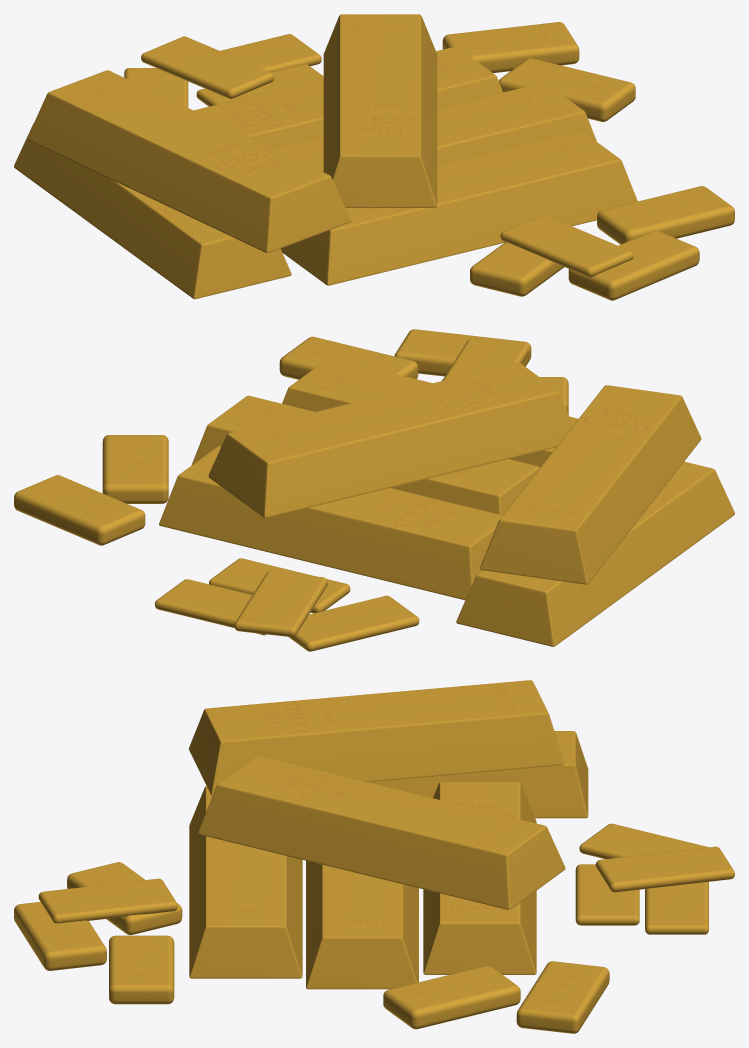
The model's file is gold_bars.glb.
3 renders of one model, top to bottom at view 1: azimuth 30°, elevation 25°; view 2: azimuth 150°, elevation 25°; view 3: azimuth 270°, elevation 25°, orthographic.
Parts seen in each view (by area): view 1: bullion_12_5kg_05, bullion_12_5kg, bullion_12_5kg_03, bullion_12_5kg_04, bullion_12_5kg_01, bullion_12_5kg_02, bullion_1kg_04, bullion_1kg_02, bullion_1kg_05, bullion_500g_03, bullion_500g_05, bullion_1kg_01 (+4 smaller); view 2: bullion_12_5kg_03, bullion_12_5kg_05, bullion_12_5kg_02, bullion_12_5kg_04, bullion_12_5kg_01, bullion_1kg_02, bullion_12_5kg, bullion_1kg_01, bullion_500g_03, bullion_500g_02, bullion_1kg_04, bullion_500g_04 (+3 smaller); view 3: bullion_12_5kg_03, bullion_12_5kg_05, bullion_12_5kg, bullion_12_5kg_01, bullion_12_5kg_02, bullion_12_5kg_04, bullion_1kg_01, bullion_1kg_02, bullion_1kg_04, bullion_500g_03, bullion_500g_05, bullion_1kg_05 (+4 smaller).
Part boxes in pixels (<box>): bullion_12_5kg_05: <box>27,70,351,253</box>; bullion_12_5kg: <box>281,131,637,285</box>; bullion_12_5kg_03: <box>323,14,437,207</box>; bullion_12_5kg_04: <box>14,123,291,299</box>; bullion_12_5kg_01: <box>274,82,596,171</box>; bullion_12_5kg_02: <box>193,46,502,148</box>; bullion_1kg_04: <box>597,186,734,244</box>; bullion_1kg_02: <box>442,22,579,72</box>; bullion_1kg_05: <box>568,230,699,300</box>; bullion_500g_03: <box>141,36,274,98</box>; bullion_500g_05: <box>500,215,633,277</box>; bullion_1kg_01: <box>499,58,635,121</box>; bullion_12_5kg_03: <box>208,362,572,518</box>; bullion_12_5kg_05: <box>480,385,701,584</box>; bullion_12_5kg_02: <box>159,446,502,600</box>; bullion_12_5kg_04: <box>456,461,734,646</box>; bullion_12_5kg_01: <box>191,395,539,515</box>; bullion_1kg_02: <box>14,475,145,545</box>; bullion_12_5kg: <box>282,358,578,467</box>; bullion_1kg_01: <box>102,435,168,503</box>; bullion_500g_03: <box>234,571,327,637</box>; bullion_500g_02: <box>289,595,419,651</box>; bullion_1kg_04: <box>279,336,418,379</box>; bullion_500g_04: <box>155,579,266,635</box>; bullion_12_5kg_03: <box>198,755,565,909</box>; bullion_12_5kg_05: <box>189,680,563,795</box>; bullion_12_5kg: <box>189,786,302,978</box>; bullion_12_5kg_01: <box>306,860,418,989</box>; bullion_12_5kg_02: <box>423,782,536,974</box>; bullion_12_5kg_04: <box>368,731,588,818</box>; bullion_1kg_01: <box>383,965,520,1029</box>; bullion_1kg_02: <box>516,961,609,1033</box>; bullion_1kg_04: <box>109,935,174,1004</box>; bullion_500g_03: <box>595,846,734,892</box>; bullion_500g_05: <box>38,878,177,923</box>; bullion_1kg_05: <box>14,902,106,970</box>.
Size of the model in its own units: 0.4485 by 0.0739 by 0.5074.
Materials: 3 (3 with a texture image).
